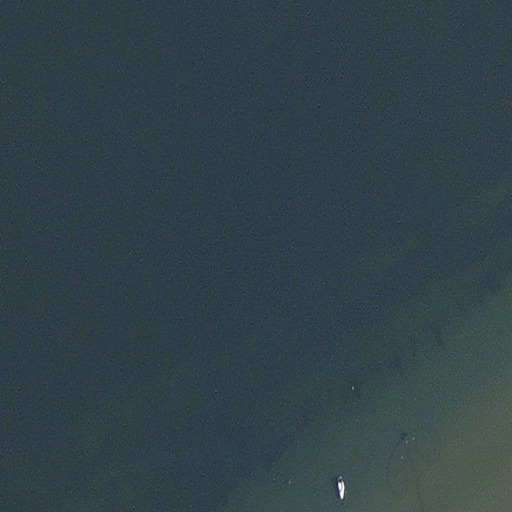ship: (335, 477, 346, 501)
